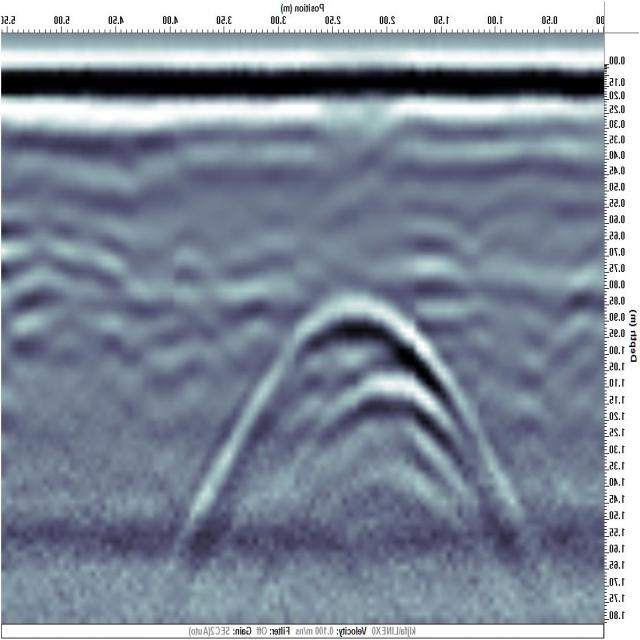hyperbola: (195, 282, 511, 552), (309, 365, 468, 493)
